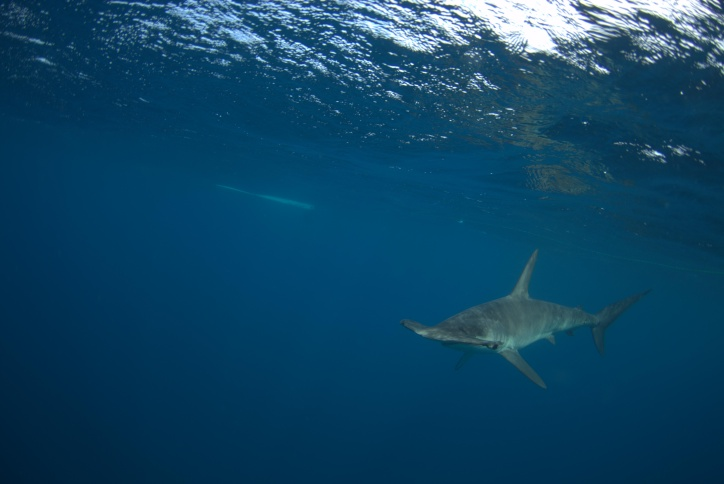Hammer: (360, 229, 689, 420)
